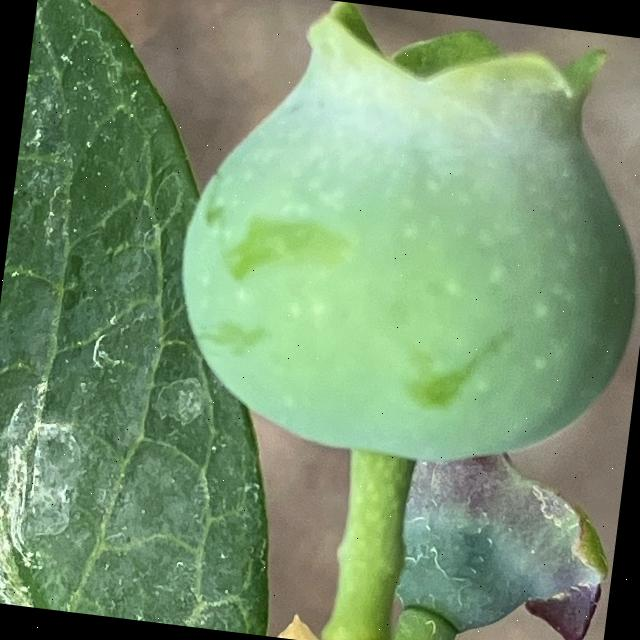Blueberries: (155, 0, 640, 491)
